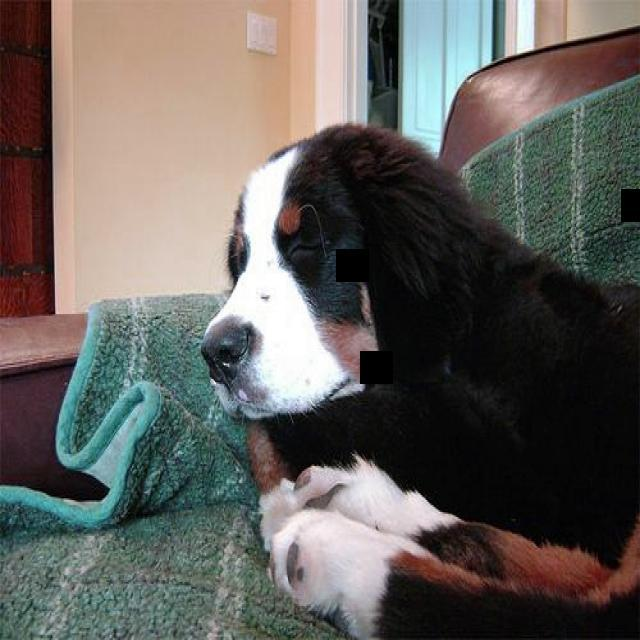puppy-dog: (199, 121, 640, 640)
